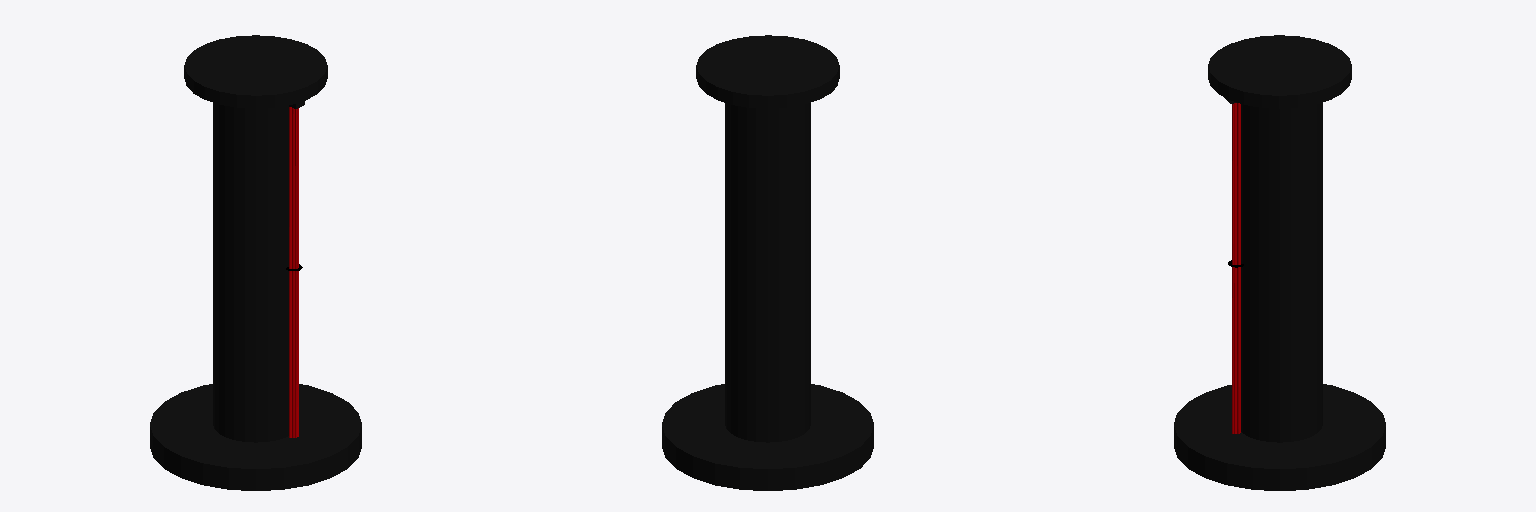
File: button_stand.obj
The picture shows the model from 3 angles: view 1: azimuth 30°, elevation 25°; view 2: azimuth 150°, elevation 25°; view 3: azimuth 270°, elevation 25°; orthographic projection.
Visible parts, largest first — view 1: ButtonStand, Cable; view 2: ButtonStand; view 3: ButtonStand, Cable.
Boxes of the visible parts, x1=… form: ButtonStand: x1=150, y1=35, x2=361, y2=490; Cable: x1=289, y1=107, x2=298, y2=437; ButtonStand: x1=662, y1=35, x2=873, y2=490; ButtonStand: x1=1174, y1=35, x2=1385, y2=490; Cable: x1=1232, y1=103, x2=1240, y2=433.
Size of the model in its own units: 0.6798 by 1.34 by 0.6798.